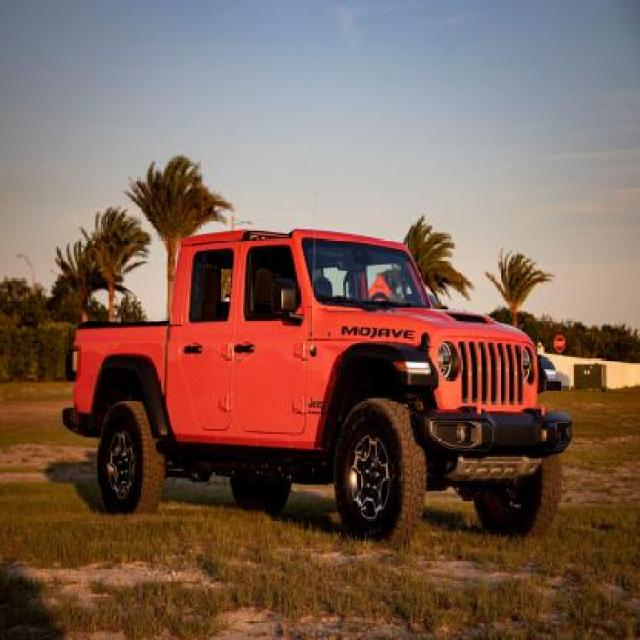Jeep: (66, 230, 576, 548)
